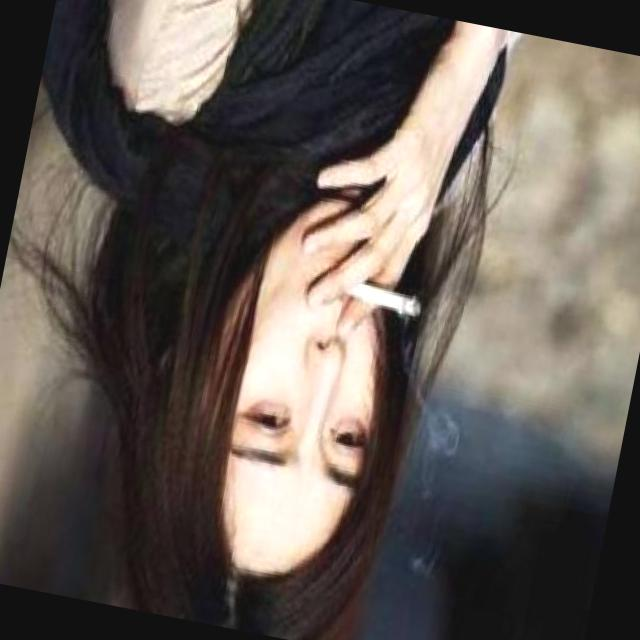cigarette: (342, 276, 425, 322)
